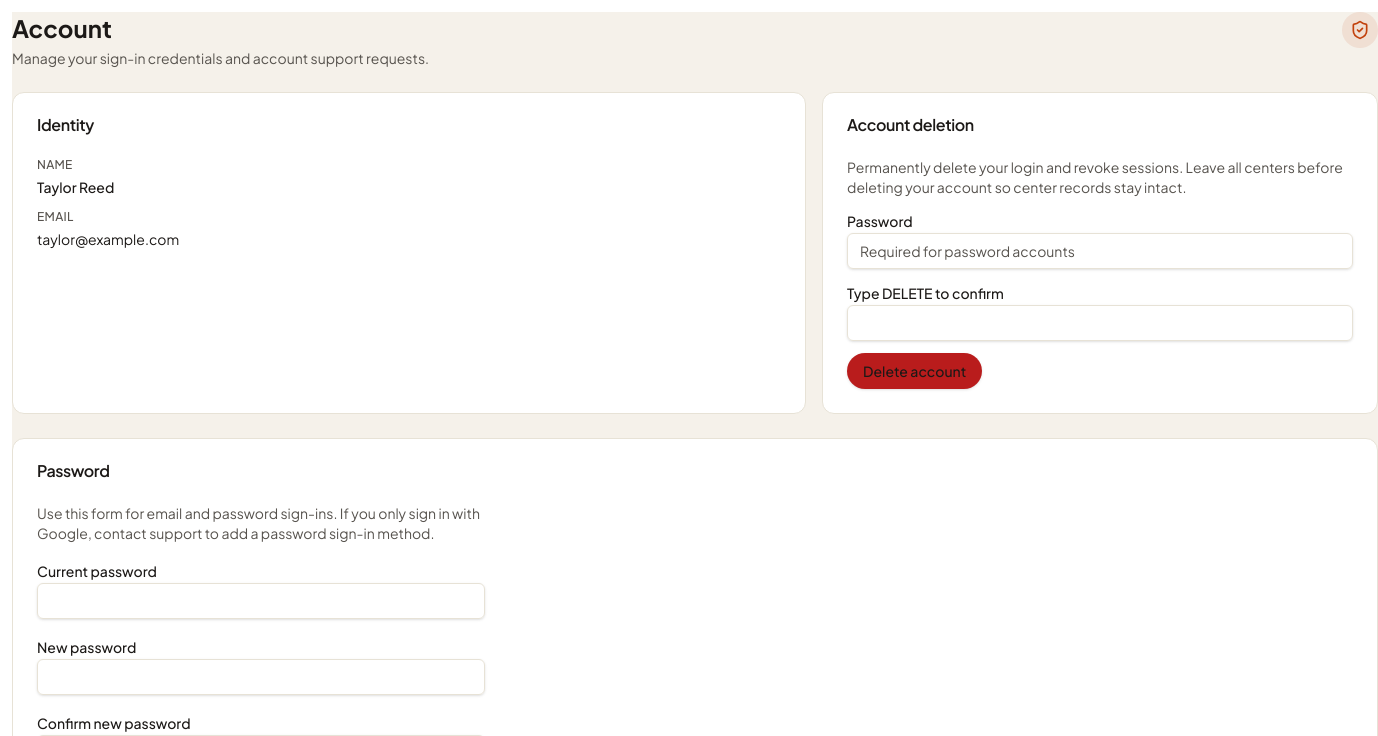
Test: AccountPage › requires DELETE confirmation before deleting the account
The image size is (1378, 736).
Type "current-password" into the password field labelled "Password" at (1100, 251), box [847,233,1353,269]
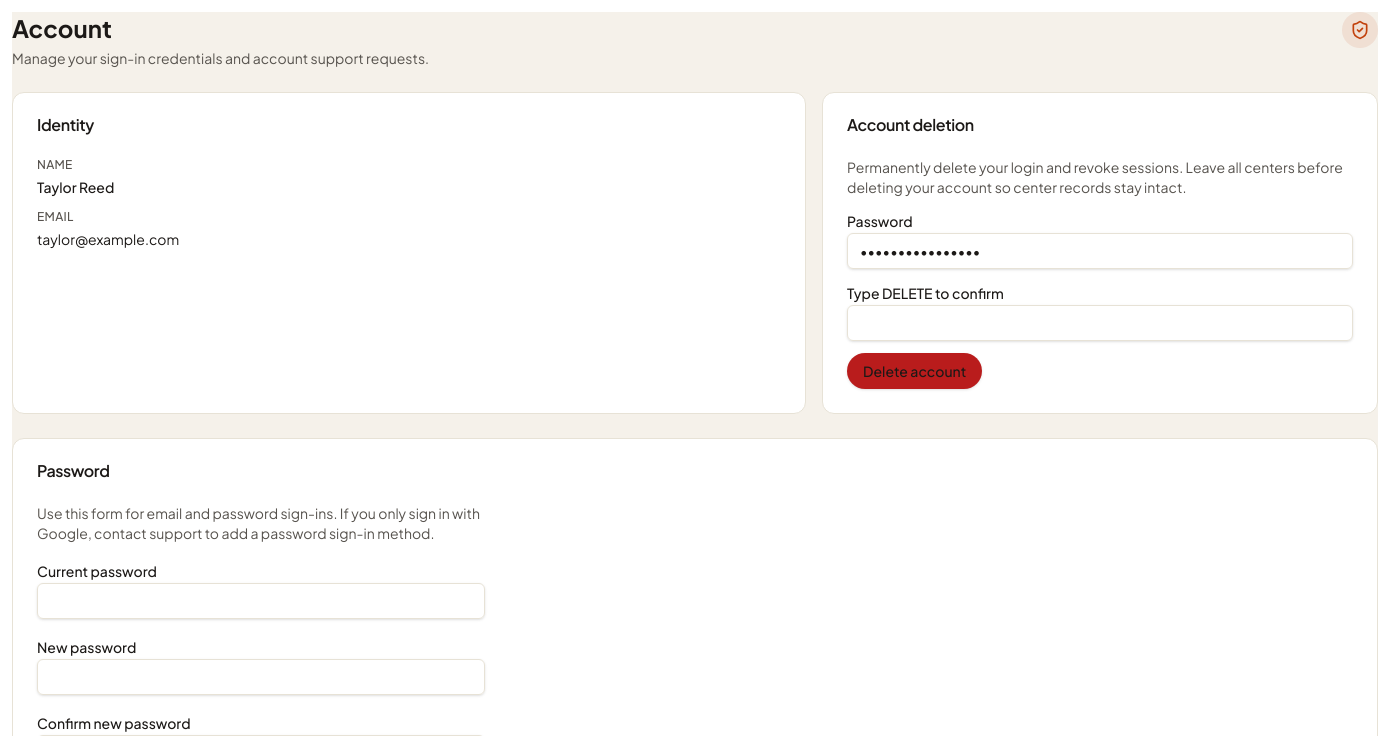
Type "delete" into the field labelled "Type DELETE to confirm" at (1100, 323), box [847,305,1353,341]
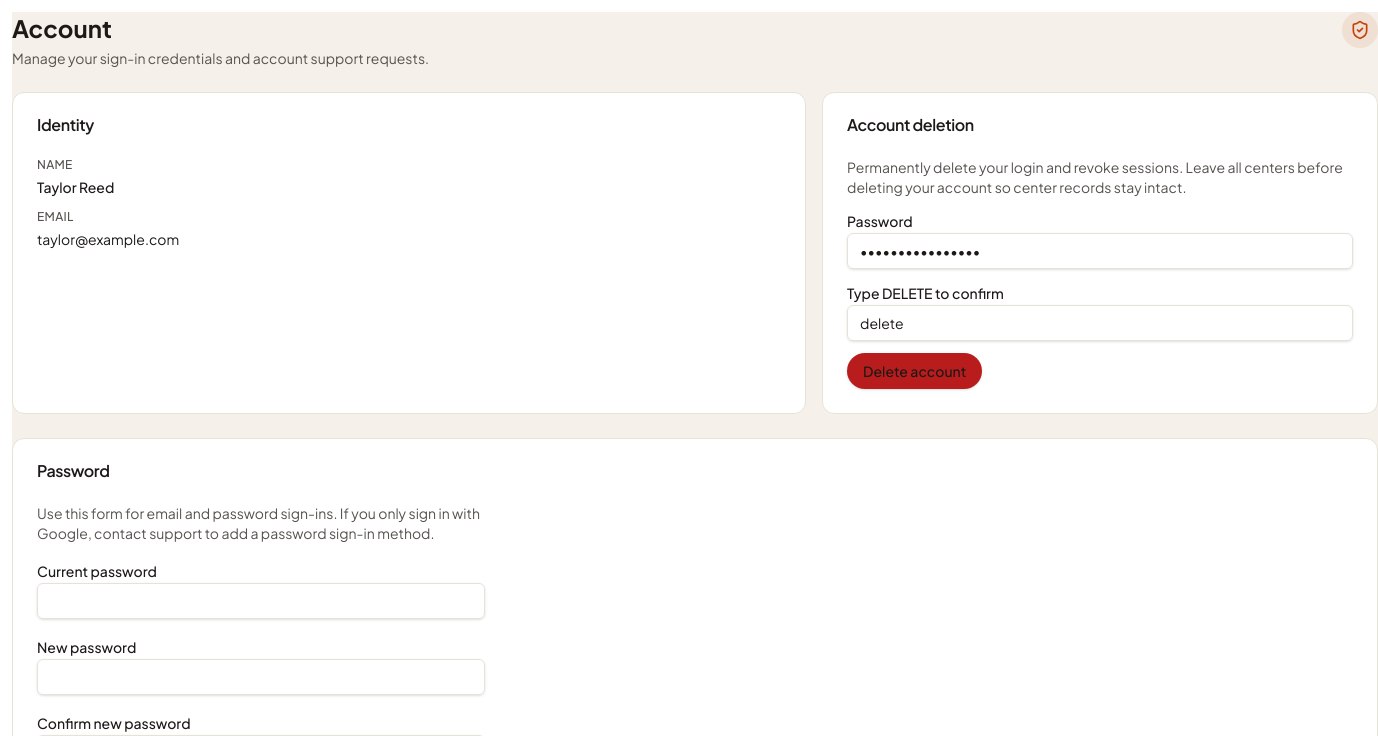
Click the button "Delete account" at (915, 371), box [847,353,982,389]
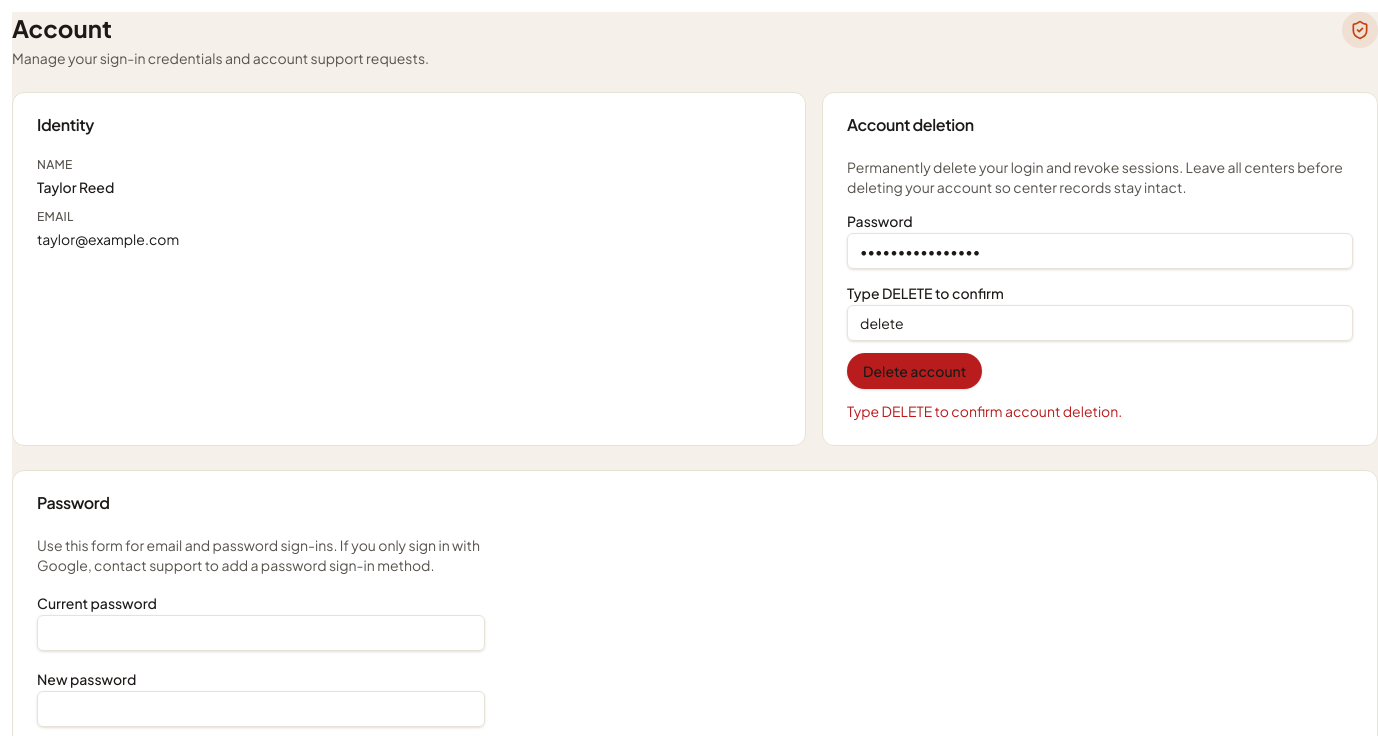
Expected: the message reads "Type DELETE to confirm account deletion.", [847,402,1122,420]
